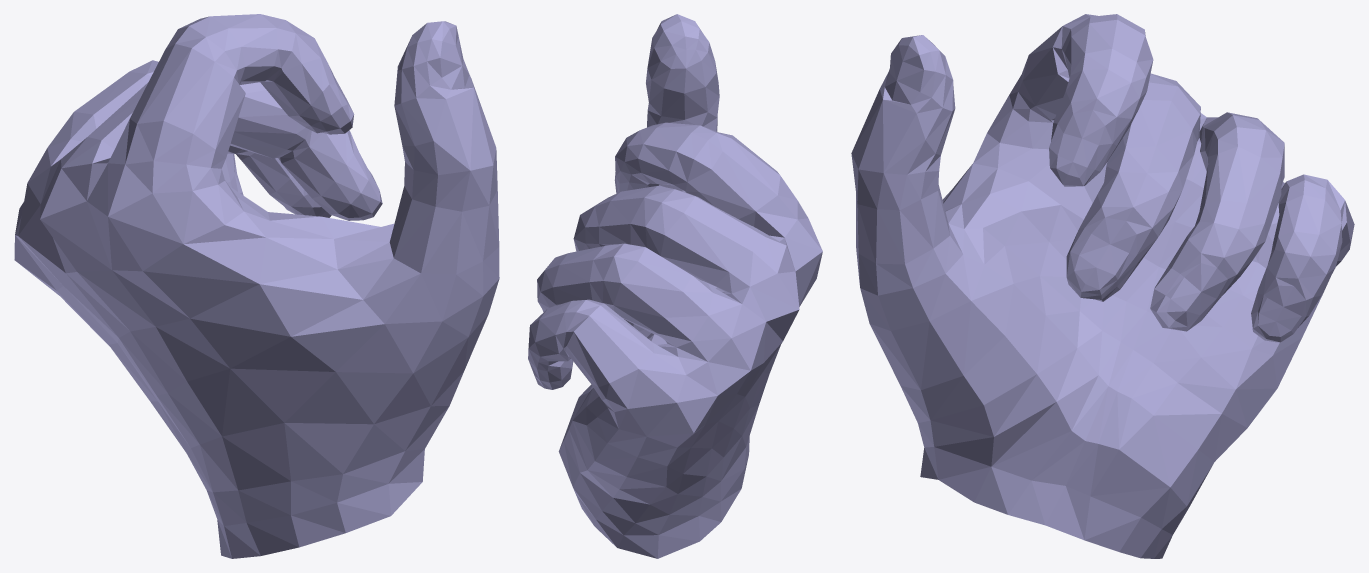
The model's file is frame_0094_source_000094_hand.glb.
The picture shows the model from 3 angles, left to right: view 1: azimuth 30°, elevation 25°; view 2: azimuth 150°, elevation 25°; view 3: azimuth 270°, elevation 25°; orthographic projection. The views are drawn at different scales.
Visible parts, largest first — view 1: world; view 2: world; view 3: world.
Boxes of the visible parts, x1=… form: world: x1=14, y1=14, x2=499, y2=558; world: x1=528, y1=14, x2=822, y2=558; world: x1=851, y1=14, x2=1354, y2=558.
Size of the model in its own units: 0.0727 by 0.1249 by 0.1024.
